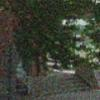stairs: (60, 74, 90, 90)
